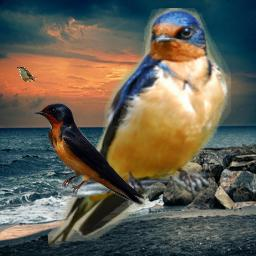Cuckoo: (16, 65, 37, 82)
Swallow: (48, 8, 231, 247), (32, 103, 145, 207)
